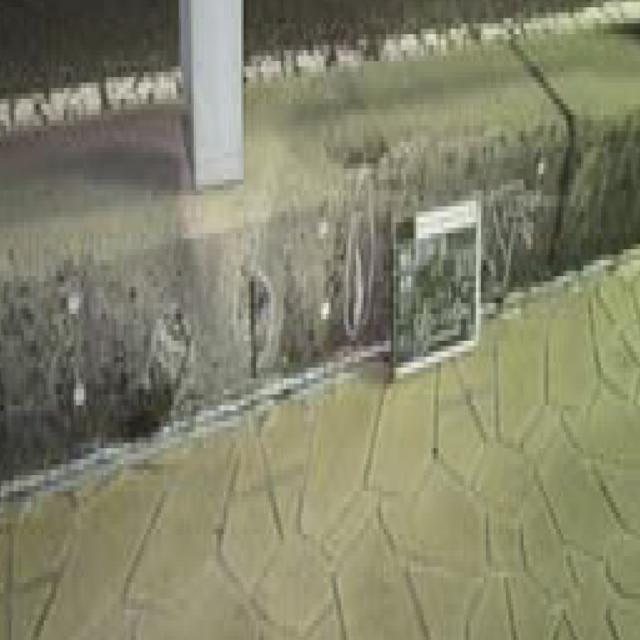freelime: (344, 219, 384, 337)
spalling: (232, 267, 298, 384), (137, 278, 200, 396)
